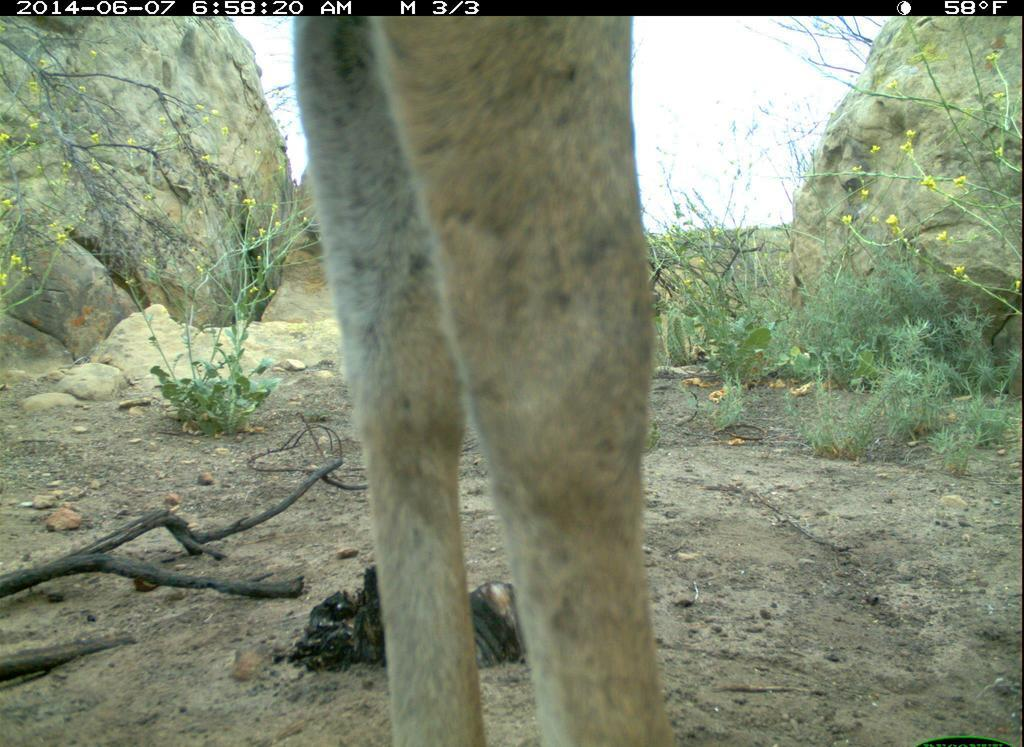deer: (239, 8, 730, 747)
